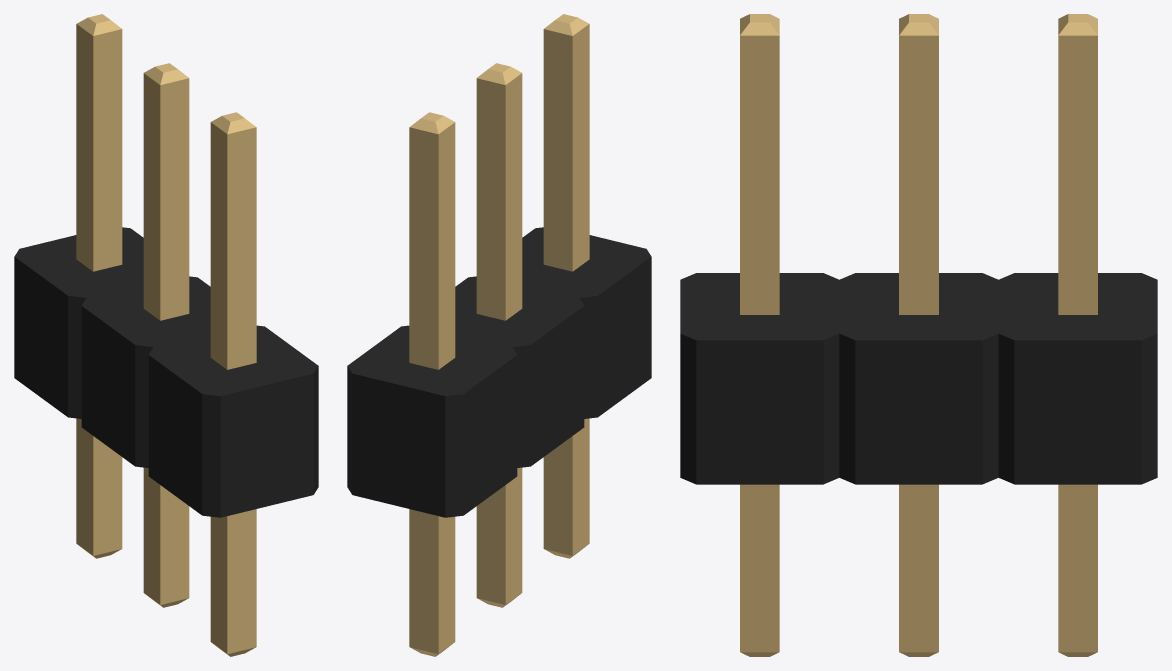
File: PinHeader_1x03_P2.00mm_Vertical.glb
3 views of the same model, side by side, from view 1: azimuth 30°, elevation 25°; view 2: azimuth 150°, elevation 25°; view 3: azimuth 270°, elevation 25° (orthographic). The views are drawn at different scales.
Visible parts, largest first — view 1: =>[0:1:1:3]; view 2: =>[0:1:1:3]; view 3: =>[0:1:1:3].
Boxes of the visible parts, x1,y1,x2,y2 form: =>[0:1:1:3]: (14,14,318,656); =>[0:1:1:3]: (347,14,651,656); =>[0:1:1:3]: (680,14,1157,656).
Bounding box in the file's own units: 0.002 × 0.0088 × 0.006.
